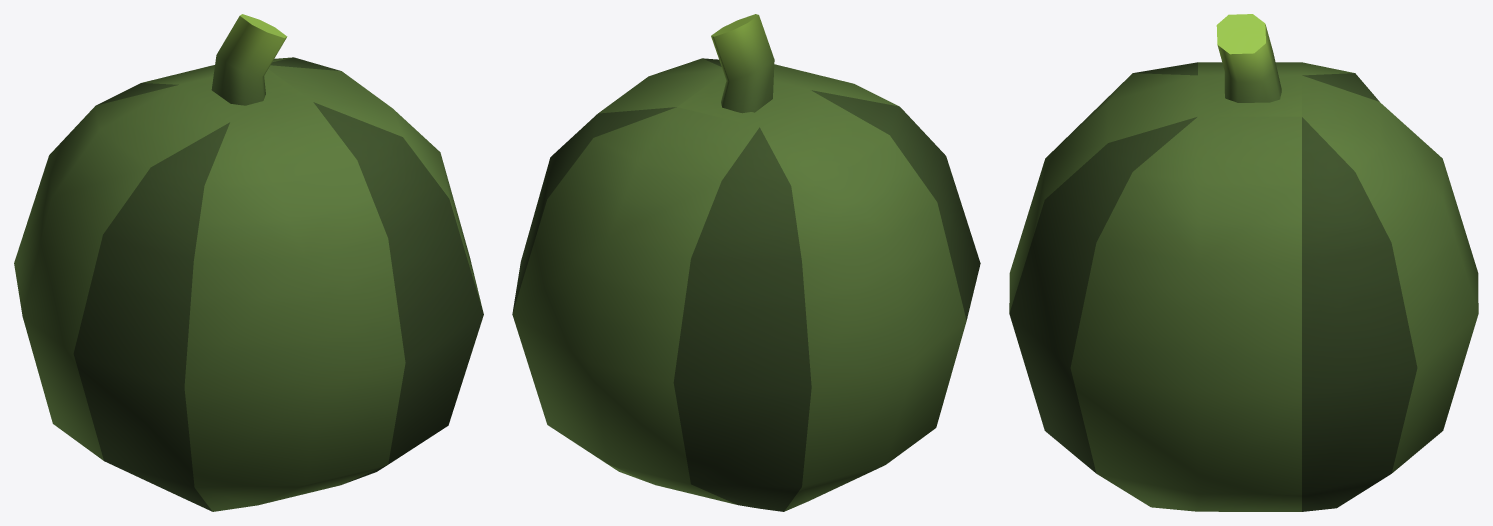
The model's file is melon.fbx.
3 views of the same model, side by side, from view 1: azimuth 30°, elevation 25°; view 2: azimuth 150°, elevation 25°; view 3: azimuth 270°, elevation 25° (orthographic). The views are drawn at different scales.
Visible parts, largest first — view 1: melon; view 2: melon; view 3: melon.
Part boxes in pixels (x1,y1,x2,y2): melon: [14, 14, 483, 511]; melon: [512, 14, 980, 511]; melon: [1009, 14, 1478, 511].
Size of the model in its own units: 53.97 by 59.92 by 54.19.
